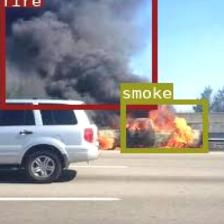fire: (0, 0, 155, 108)
smoke: (120, 98, 208, 152)
